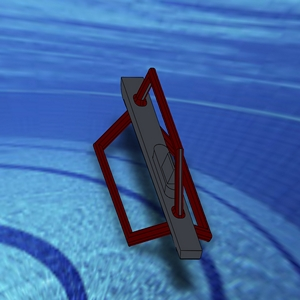submarine: (60, 59, 258, 279)
